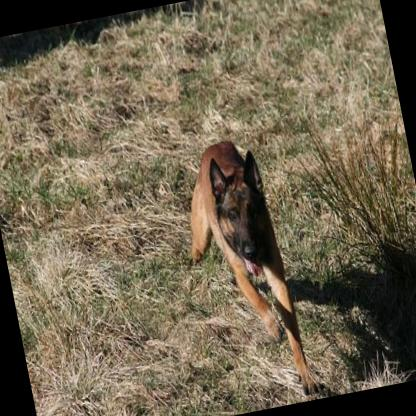malinois: (165, 126, 328, 414)
